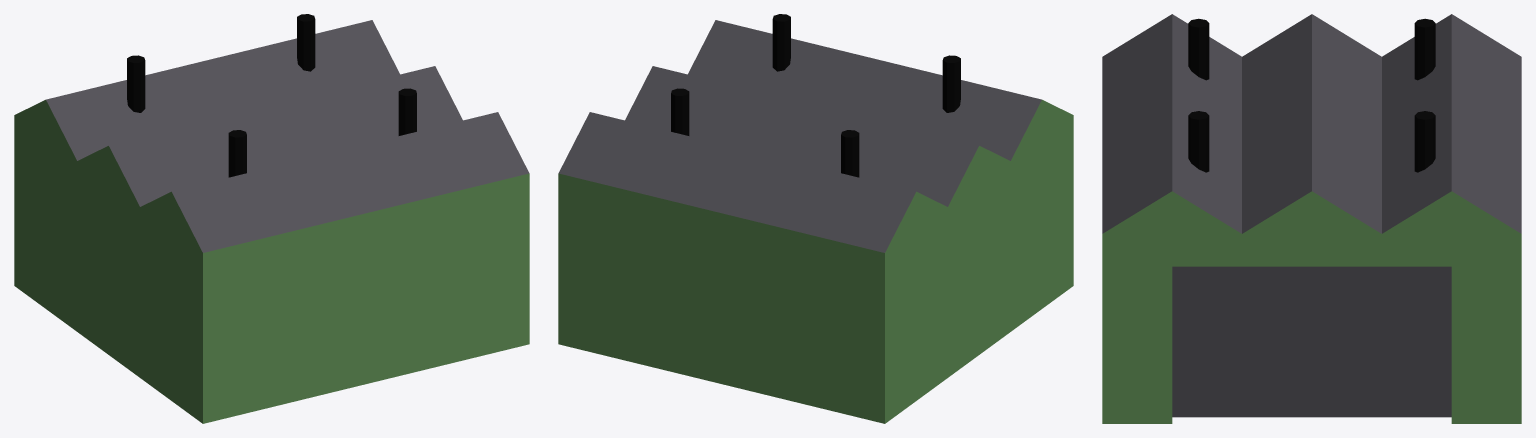
File: ResourceGatherer.fbx
The picture shows the model from 3 angles, left to right: view 1: azimuth 30°, elevation 25°; view 2: azimuth 150°, elevation 25°; view 3: azimuth 270°, elevation 25°; orthographic projection. The views are drawn at different scales.
Visible parts, largest first — view 1: Walls, Roof, Chimney; view 2: Walls, Roof, Chimney; view 3: Roof, Walls, Doors, Chimney.
Boxes of the visible parts, x1=… form: Walls: x1=14, y1=99, x2=529, y2=423; Roof: x1=46, y1=20, x2=529, y2=252; Chimney: x1=127, y1=14, x2=416, y2=177; Walls: x1=558, y1=99, x2=1073, y2=423; Roof: x1=558, y1=20, x2=1041, y2=252; Chimney: x1=671, y1=14, x2=960, y2=177; Roof: x1=1102, y1=14, x2=1521, y2=233; Walls: x1=1102, y1=191, x2=1521, y2=423; Doors: x1=1172, y1=266, x2=1451, y2=417; Chimney: x1=1188, y1=18, x2=1435, y2=172.
Bounding box in the file's own units: 400 × 280 × 400.
